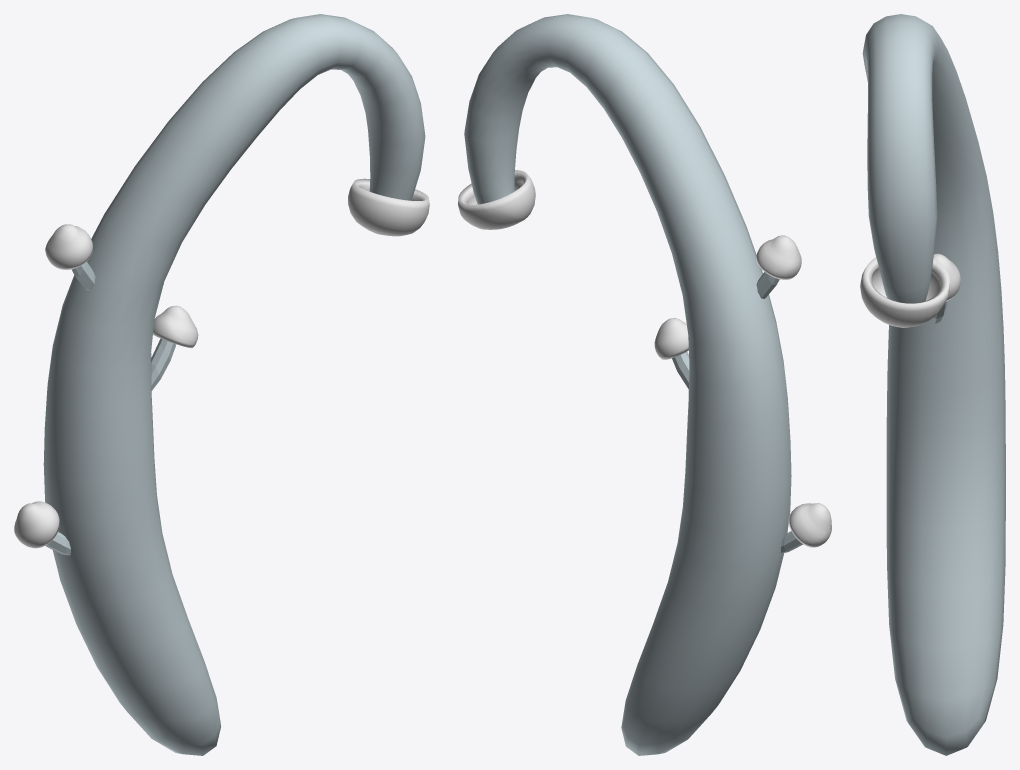
File: Hebel_02.fbx
3 views of the same model, side by side, from view 1: azimuth 30°, elevation 25°; view 2: azimuth 150°, elevation 25°; view 3: azimuth 270°, elevation 25° (orthographic). The views are drawn at different scales.
Parts seen in each view (by area): view 1: Cube.002, Sphere, Sphere.004, Sphere.001, Sphere.002; view 2: Cube.002, Sphere, Sphere.004, Sphere.001, Sphere.002; view 3: Cube.002, Sphere, Sphere.002.
Boxes of the visible parts, x1,y1,x2,y2 form: Cube.002: (43,14,425,755); Sphere: (348,178,429,236); Sphere.004: (14,501,59,548); Sphere.001: (45,224,92,269); Sphere.002: (153,305,198,348); Cube.002: (464,14,802,755); Sphere: (458,170,535,229); Sphere.004: (788,503,831,547); Sphere.001: (756,235,801,279); Sphere.002: (654,318,688,359); Cube.002: (862,14,1005,755); Sphere: (860,257,949,327); Sphere.002: (933,253,960,301).
Bounding box in the file's own units: 59.76 × 106 × 18.
